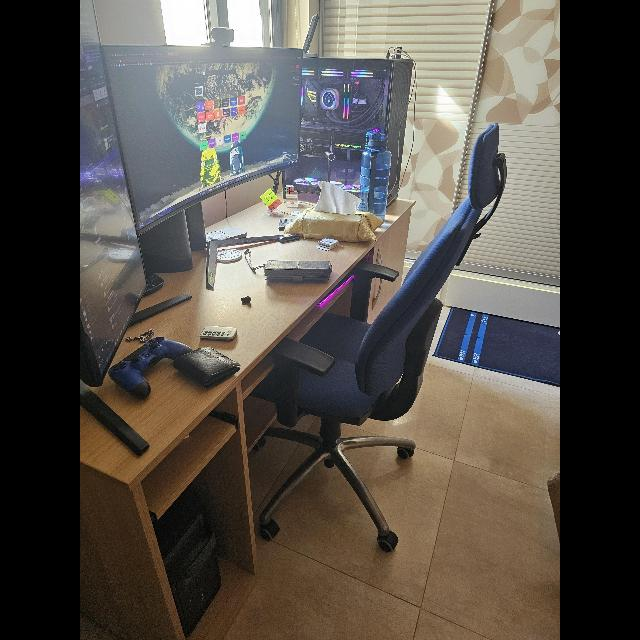Wallet: (172, 346, 244, 388), (263, 260, 327, 282)
